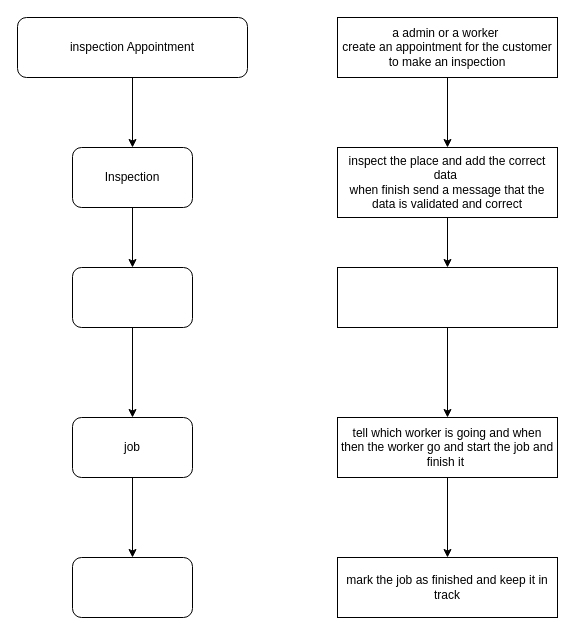
This 575x635 diagram has some shape labels left out. The shapes that lost their labels are listed below. From the top down, each one's centre as x and y in pixels, then its label:
At (132,297): "approved".
At (447,297): "the admin validates the data is correct and on next the job is created".
At (132,587): "jobFinish".
